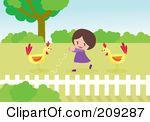bird: (23, 40, 53, 70), (99, 41, 129, 69)
person: (67, 28, 97, 73)
